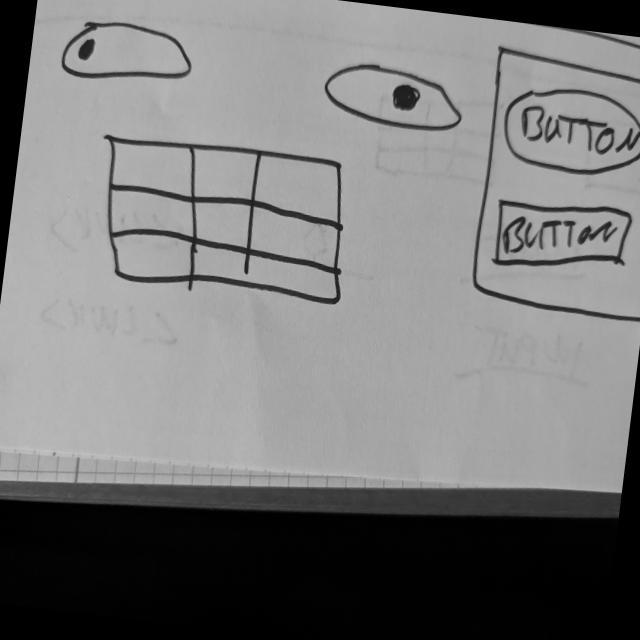button: (498, 78, 640, 184), (488, 190, 636, 286)
container: (464, 40, 640, 325)
table: (86, 129, 358, 310)
toggle: (318, 55, 467, 138), (56, 11, 198, 93)
